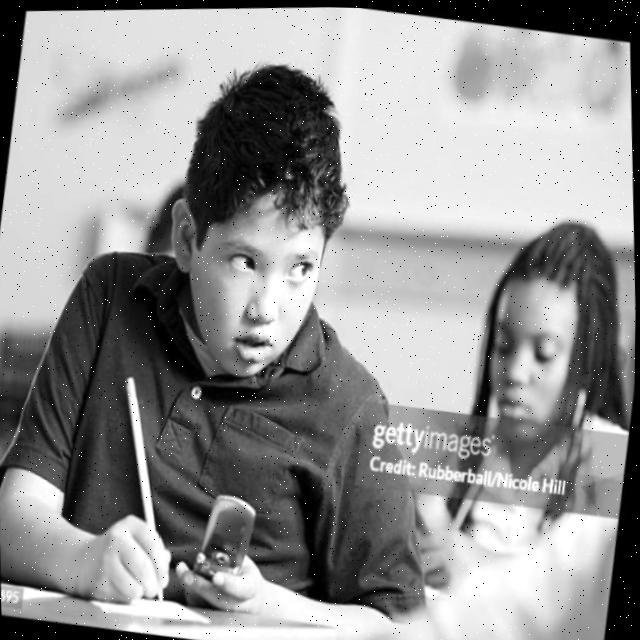phone: (189, 486, 262, 585)
